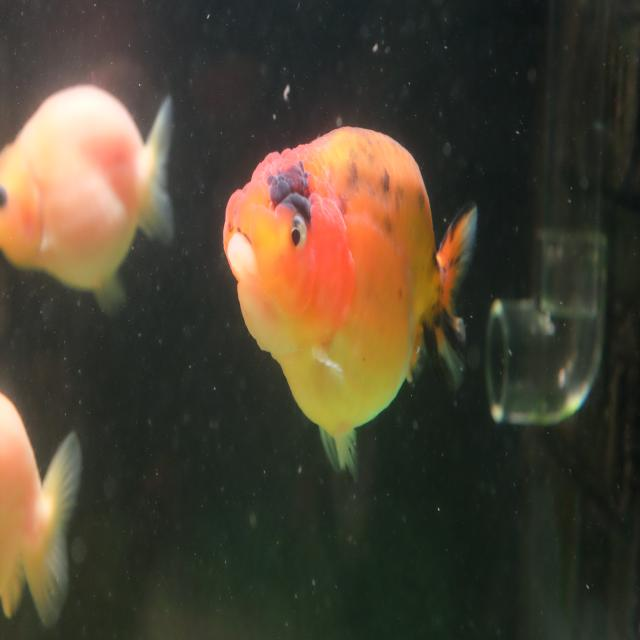Goldfish: (222, 127, 477, 481), (0, 83, 175, 324), (0, 388, 83, 630)
